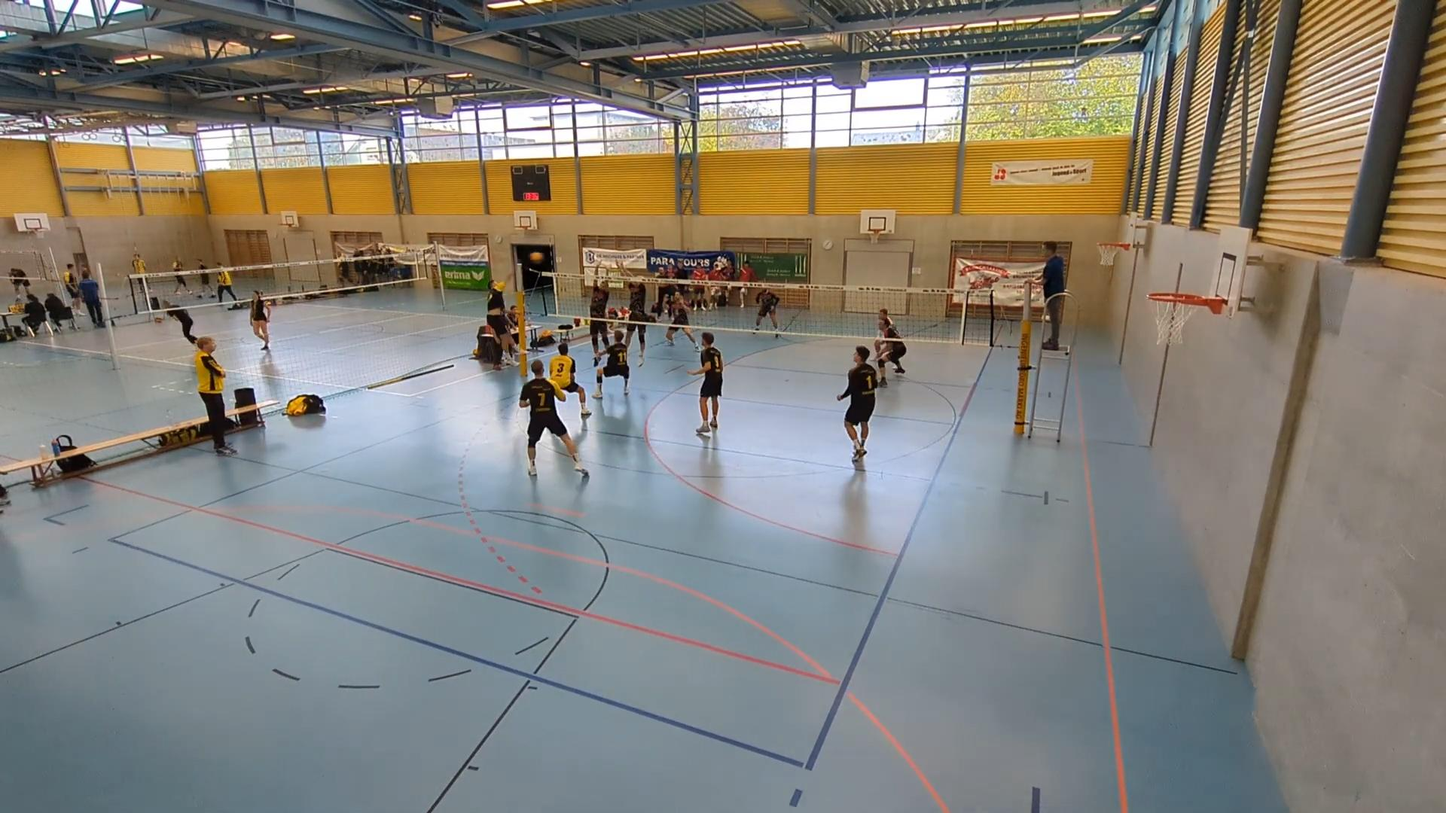Attack: (481, 265, 528, 371)
Block: (579, 261, 617, 376), (615, 263, 654, 370)
Player: (519, 361, 588, 477), (837, 346, 877, 460), (690, 332, 722, 435), (548, 343, 590, 418), (593, 330, 630, 398), (877, 318, 907, 386), (487, 281, 511, 361), (665, 297, 697, 347), (754, 286, 779, 336)
